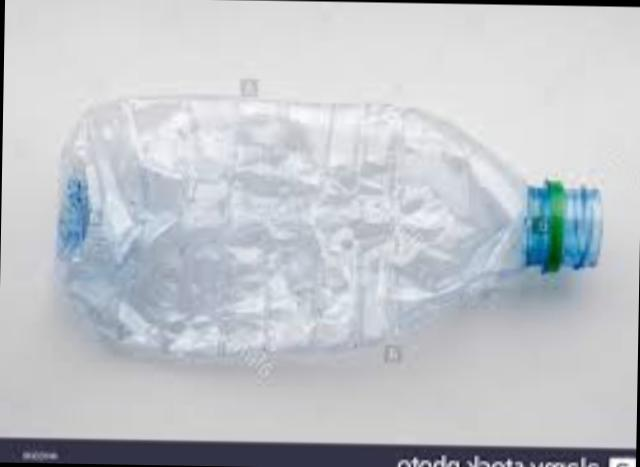plastic: (61, 96, 527, 360)
